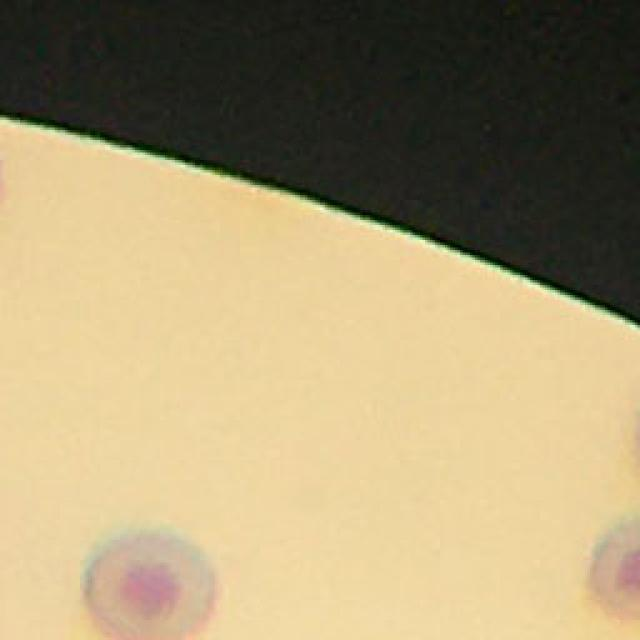RBC: (82, 532, 215, 640), (592, 518, 640, 622)
